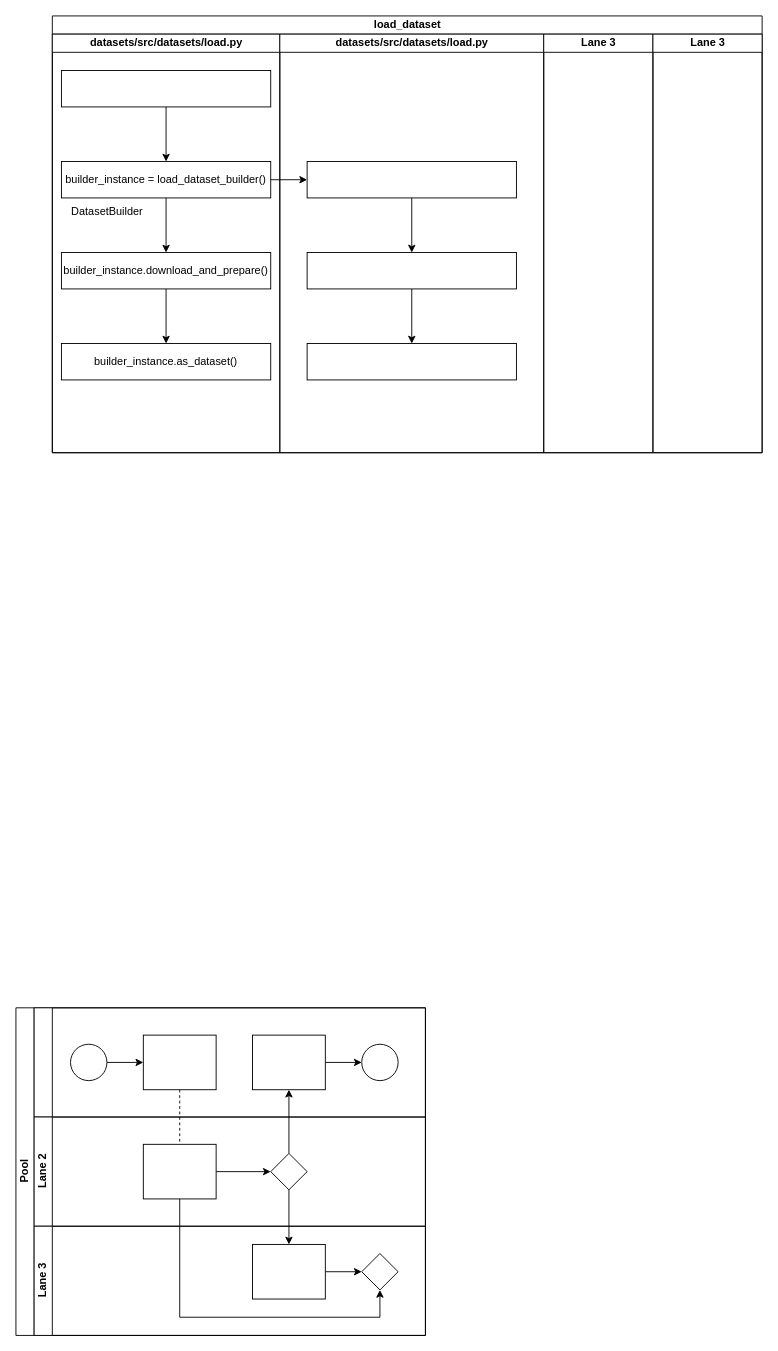
This 778x1351 diagram has some shape labels left out. Each missing label, with the box of its shape:
builder_cls = import_main_class(): (306, 252, 516, 289)
builder_cls(): (306, 343, 516, 380)
dataset_module_factory(): (306, 161, 516, 198)
Lane 1: (33, 1007, 425, 1117)
load_dataset(): (61, 70, 271, 107)
